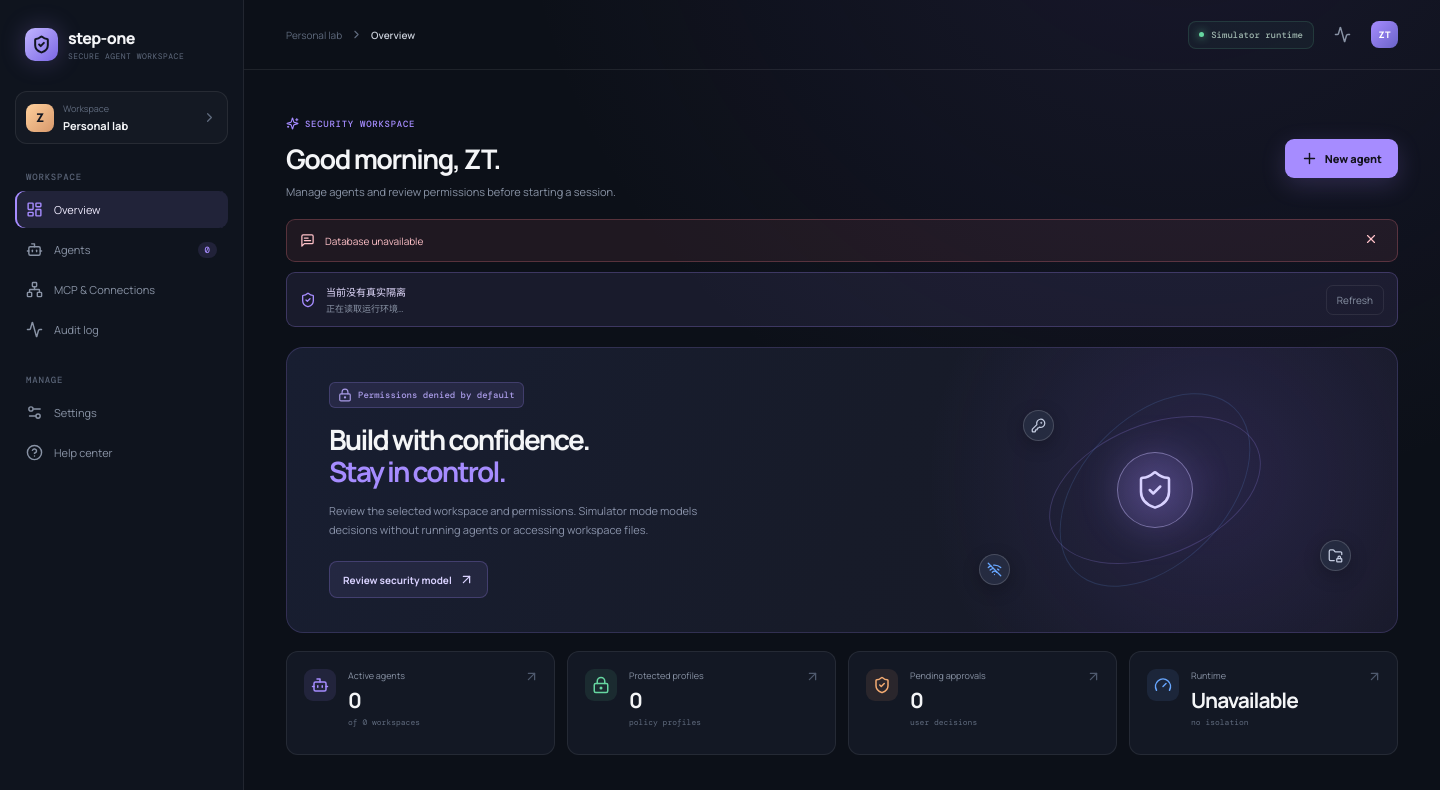
Test: console runtime UI › reports an initial IPC error, never preview agents
The image size is (1440, 790).
Expected: the message "Database unavailable" is shown, [286,219,1398,262]
What coordinates should you click on to do the following:
click the button named "Dismiss error"
I would click on:
 (1371, 240)
Its box is [1358,231,1384,250].
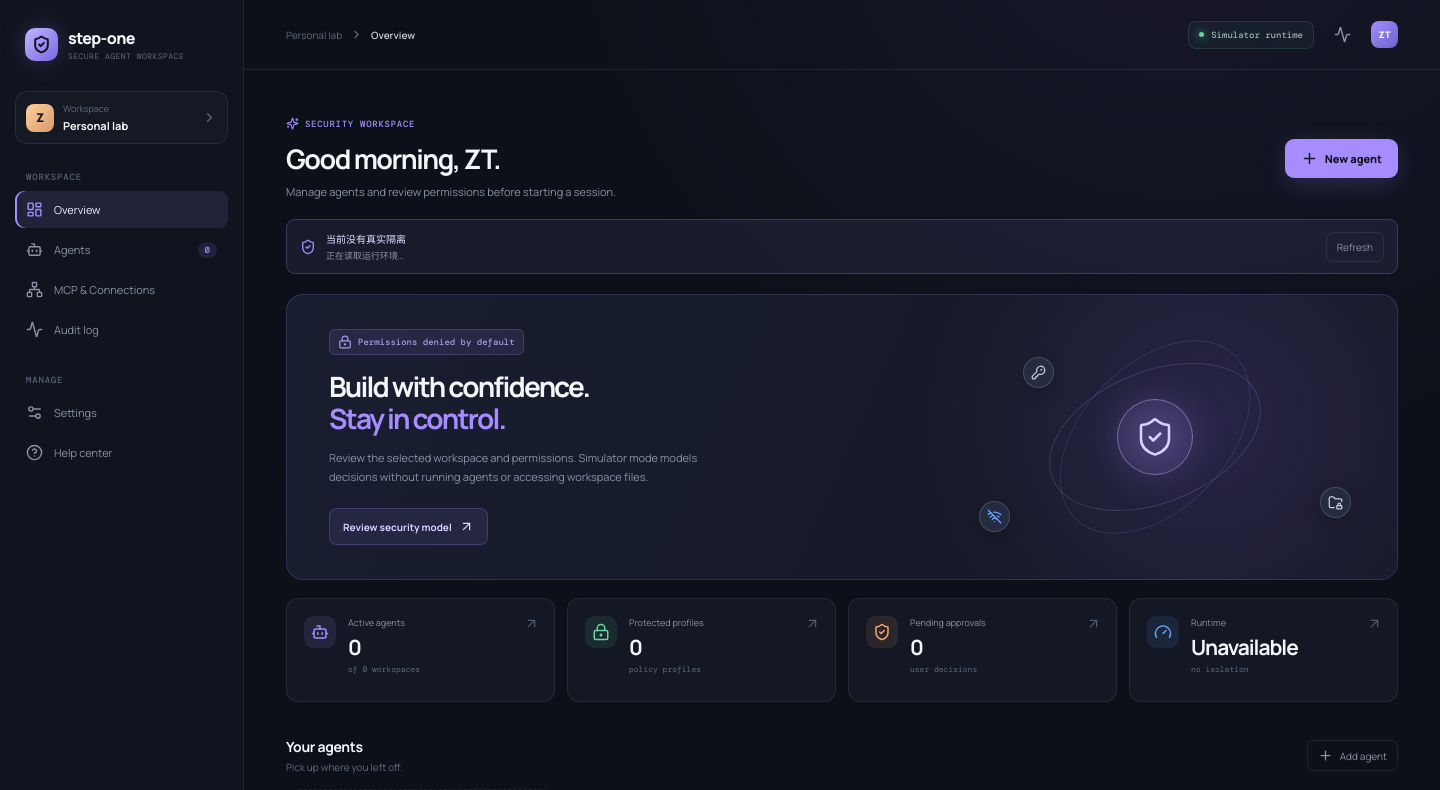
Expected: the message "Database unavailable" is gone
